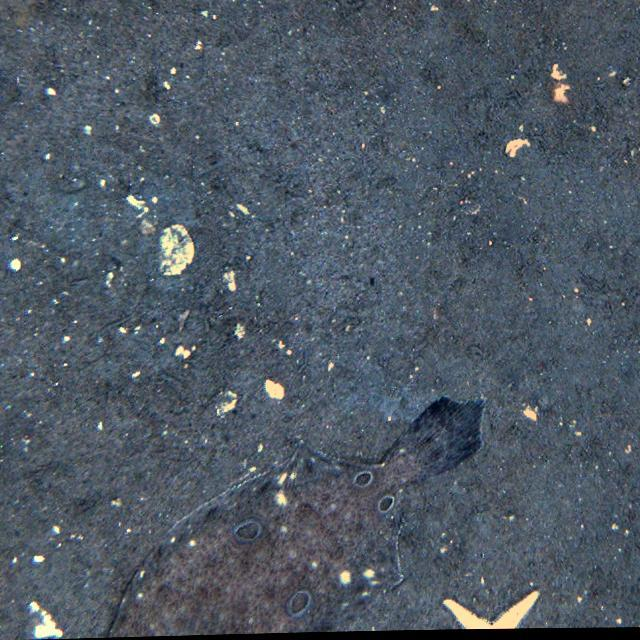flatfish: (110, 393, 484, 636)
